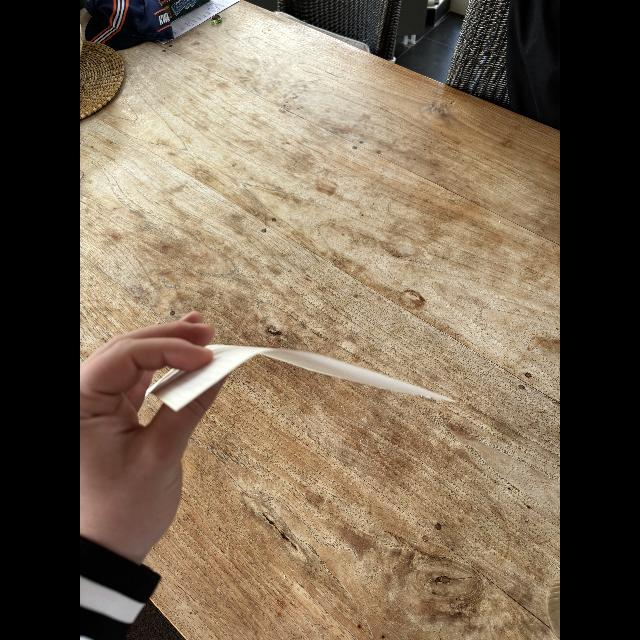Paper: (138, 338, 460, 417)
